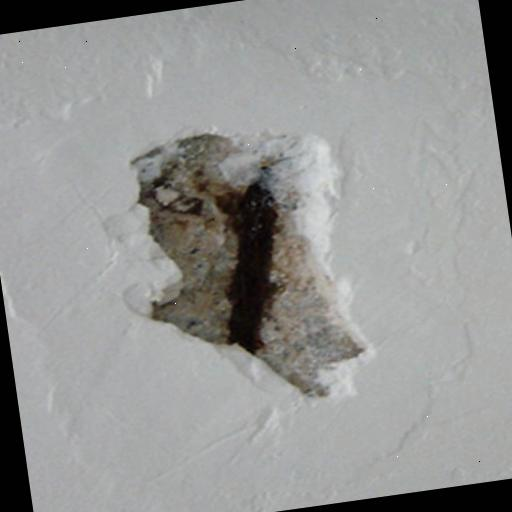spalling: (109, 126, 376, 399)
